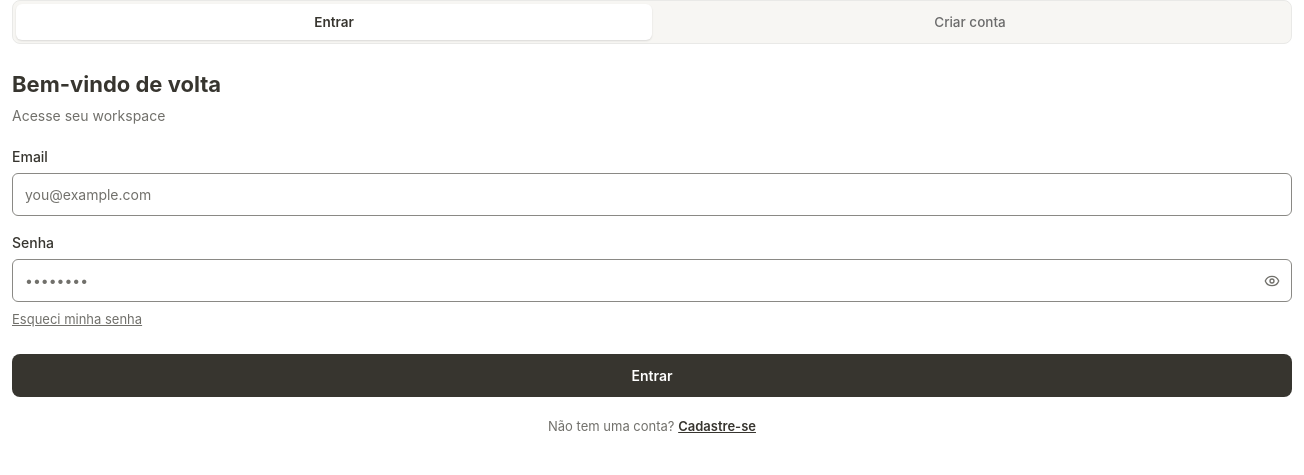
it: AuthForm: login › validação própria: e-mail vazio e inválido param no campo, com foco
This screenshot has width=1304, height=475.
Type "qualquer-coisa" into the password field labelled "Senha". click: (652, 281)
box: [12,259,1292,302]
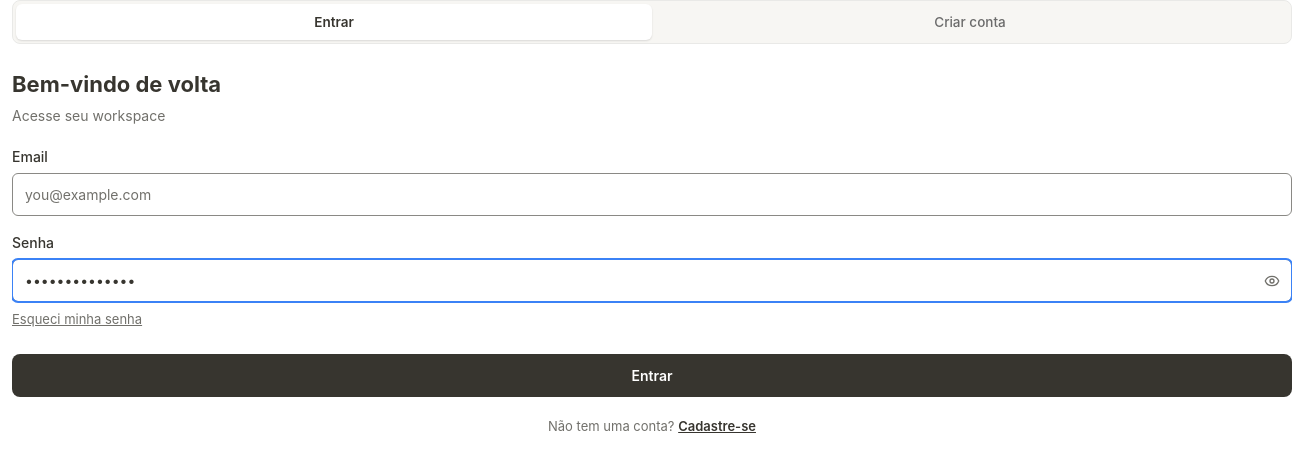
Click the button "Entrar". click: (652, 375)
box: [12,354,1292,397]
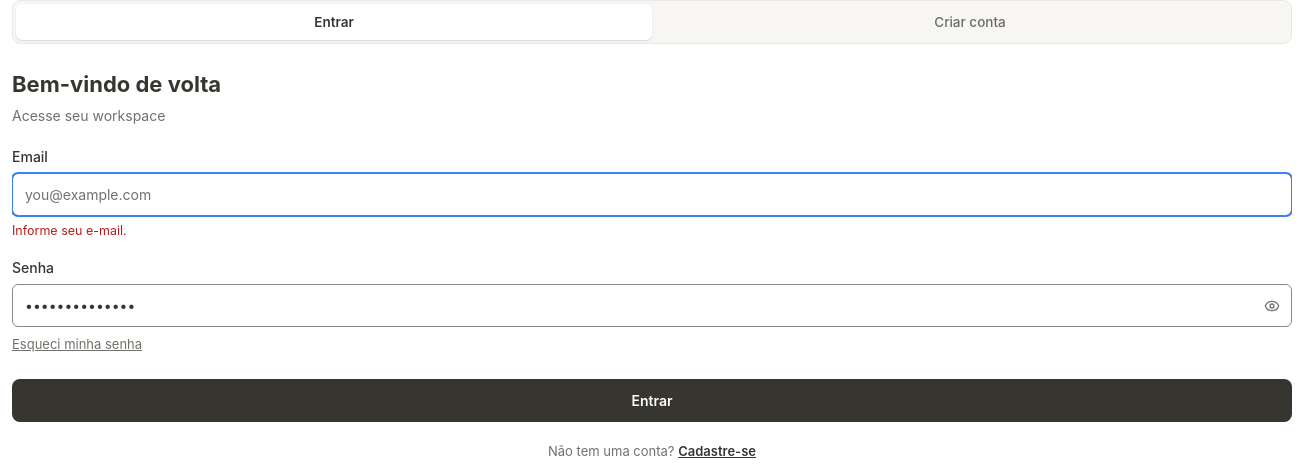
Now the message reads "Informe seu e-mail.", box [12,223,127,238]
Type "sem-arroba" into the field labelled "Email". click: (652, 195)
box: [12,173,1292,216]
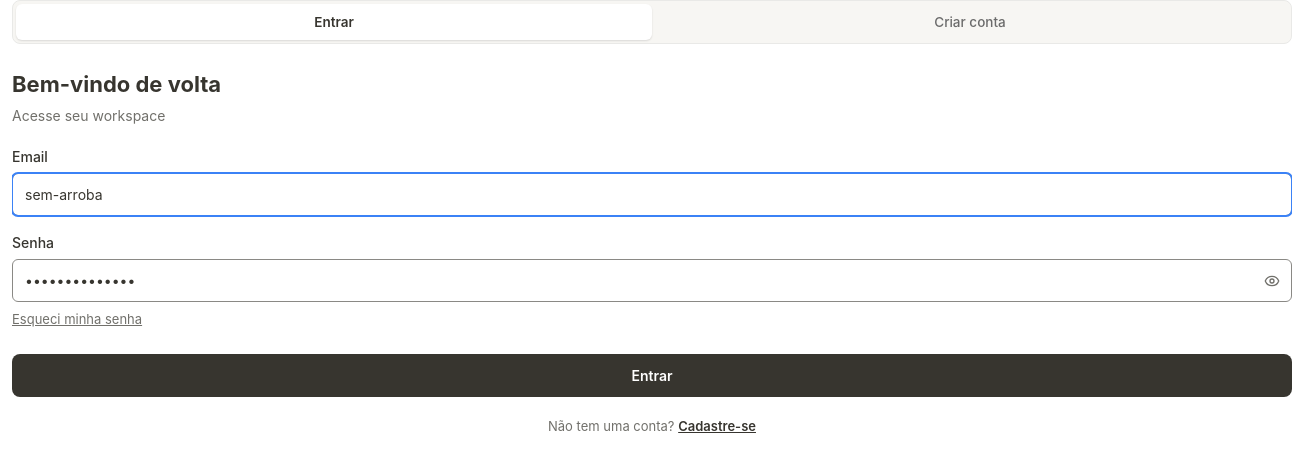
Now the message "Informe seu e-mail." is gone
Click the button "Entrar". click: (652, 375)
box: [12,354,1292,397]
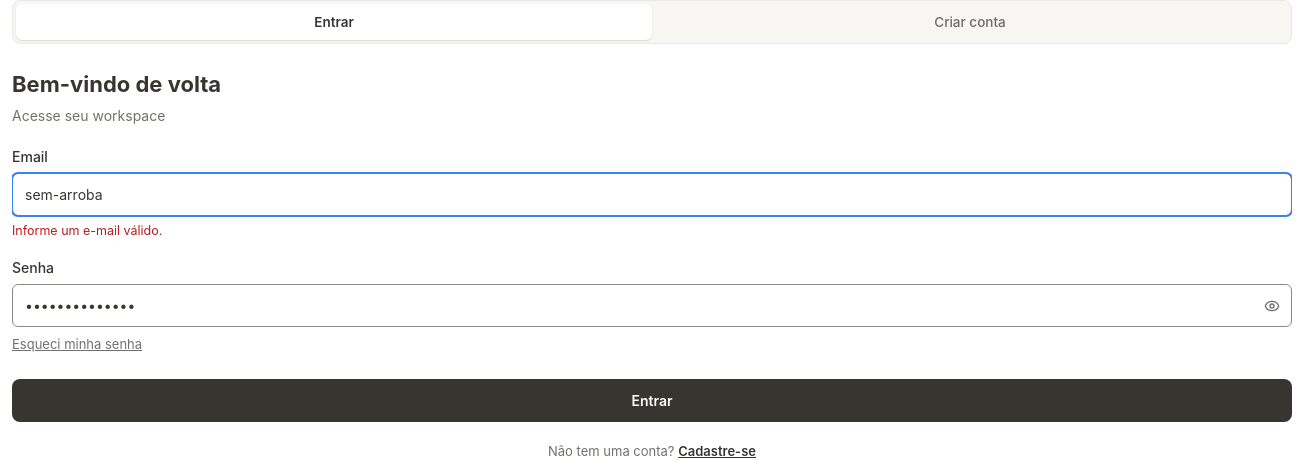
Now the message reads "Informe um e-mail válido.", box [12,223,162,238]
